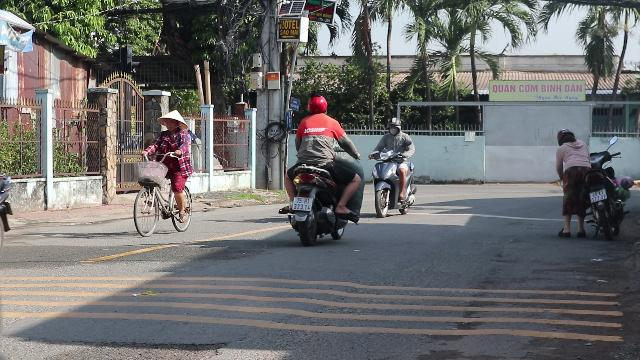helmet: (306, 95, 328, 115), (386, 117, 402, 135)
licenseplate: (292, 197, 312, 211)
motorcyclist: (279, 95, 365, 245), (367, 116, 418, 218)
